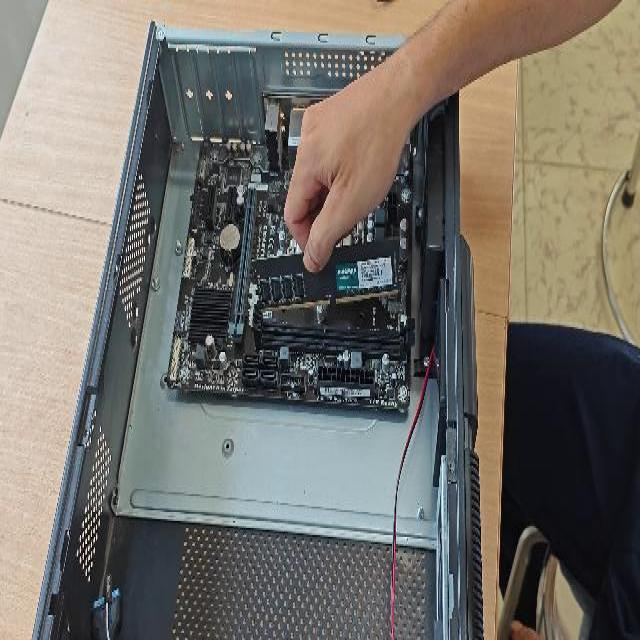Mainboard: (166, 128, 412, 407)
RAM: (251, 236, 397, 313)
